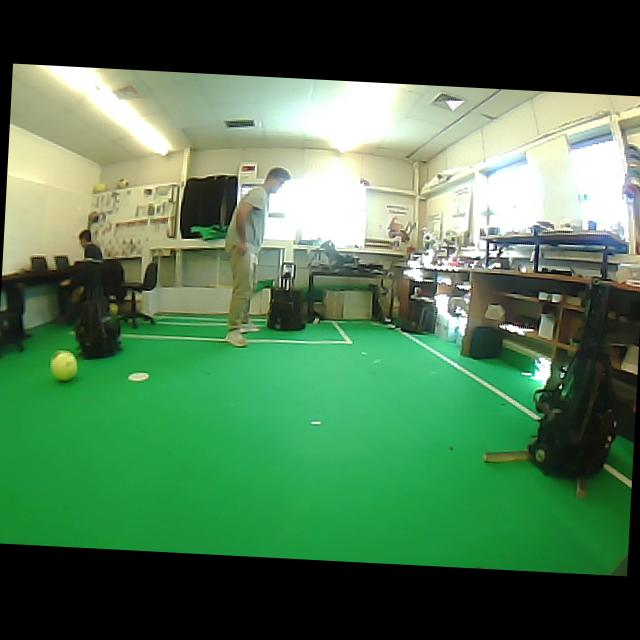ball: (50, 350, 78, 381), (93, 182, 107, 193), (117, 178, 129, 189), (109, 303, 118, 315)
robot: (529, 284, 616, 478), (76, 285, 122, 359), (267, 262, 305, 330)
